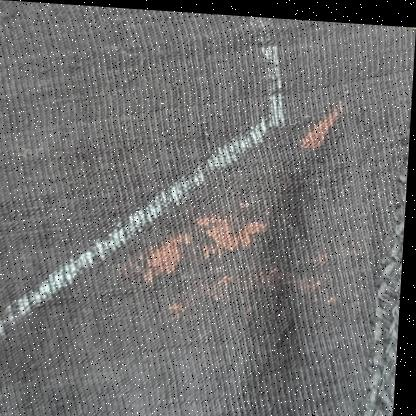spot: (127, 186, 281, 324), (136, 209, 304, 299), (299, 93, 353, 176)
